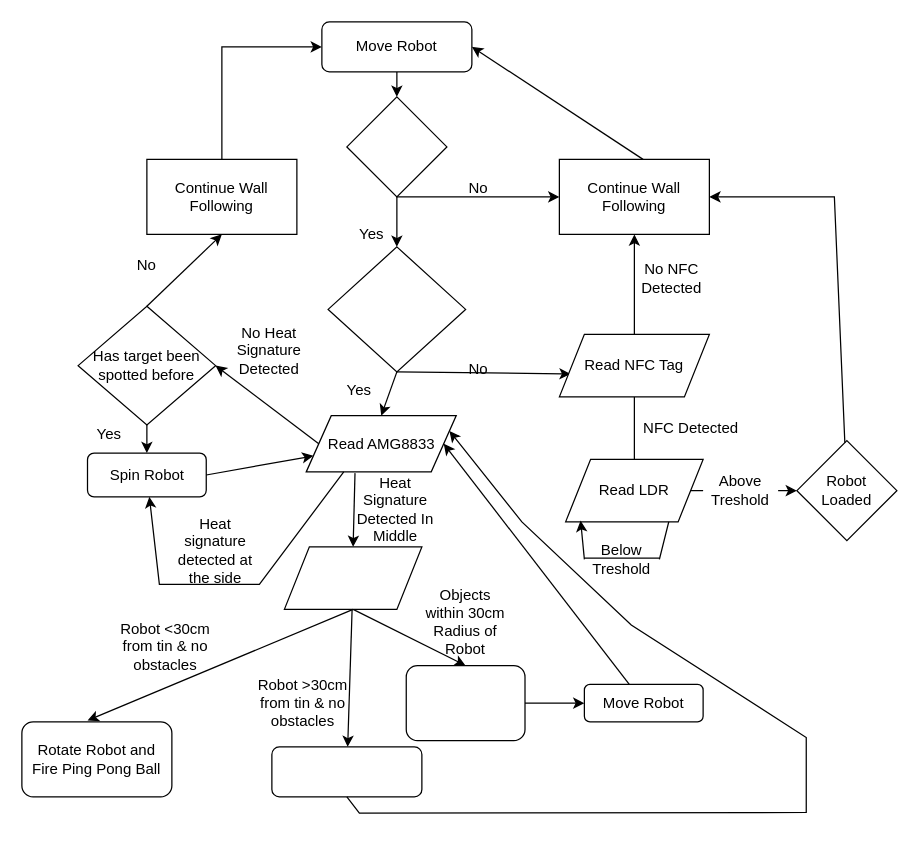
This 919x845 diagram has some shape labels left out. The box of each missing label's shape, as (x1, y1, x2, y2) in pixels:
Find path to avoid obstacle: (405, 664, 525, 741)
Has Payload been Loaded: (327, 246, 466, 372)
Map Closed?: (346, 96, 447, 197)
Move Robot Forward: (271, 746, 422, 797)
Read LiDAR: (283, 546, 422, 609)
